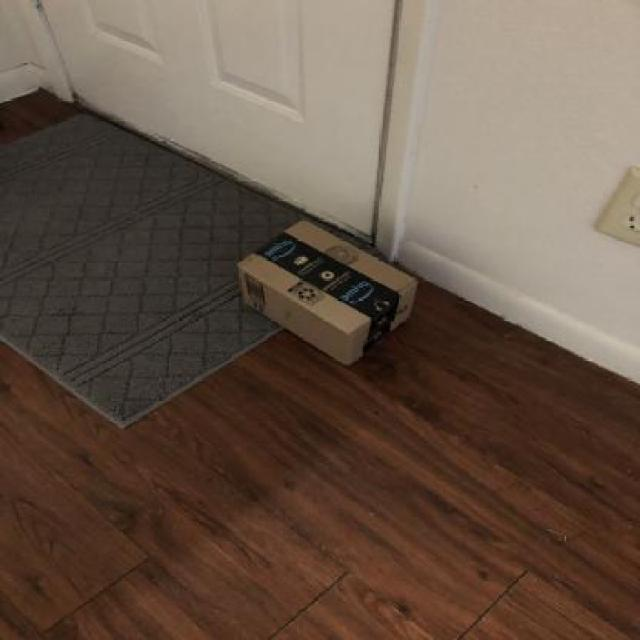cardboxes: (233, 218, 422, 372)
